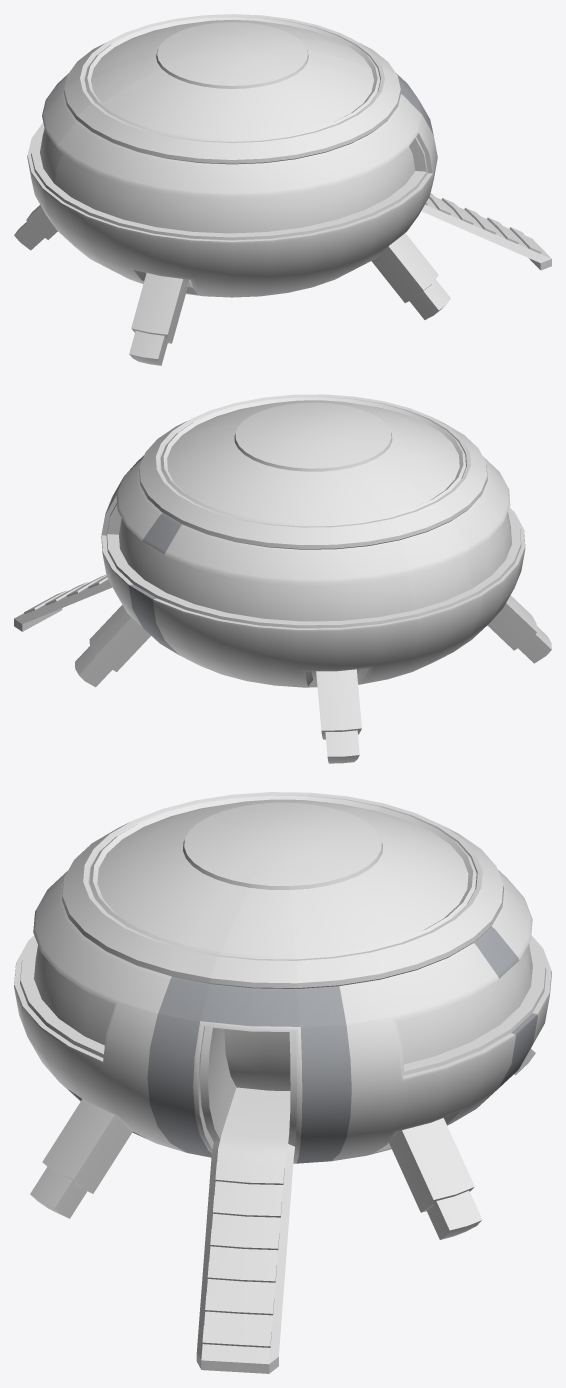
File: PlayerHome.fbx
The picture shows the model from 3 angles, top to bottom: view 1: azimuth 30°, elevation 25°; view 2: azimuth 150°, elevation 25°; view 3: azimuth 270°, elevation 25°; orthographic projection. The views are drawn at different scales.
Visible parts, largest first — view 1: Ship; view 2: Ship; view 3: Ship.
Boxes of the visible parts, x1,y1,x2,y2 form: Ship: (14,14,551,365); Ship: (14,394,551,763); Ship: (14,792,551,1373).
Size of the model in its own units: 2.65 by 1.44 by 2.
